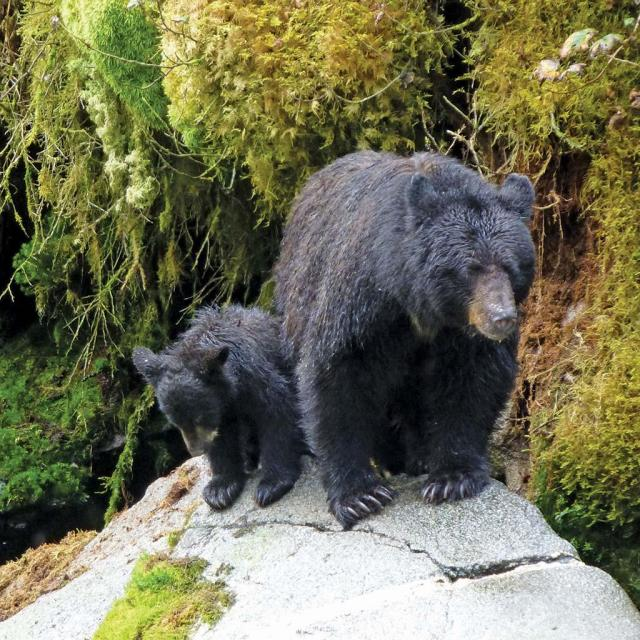Bear: (273, 151, 536, 532), (129, 306, 308, 514)
